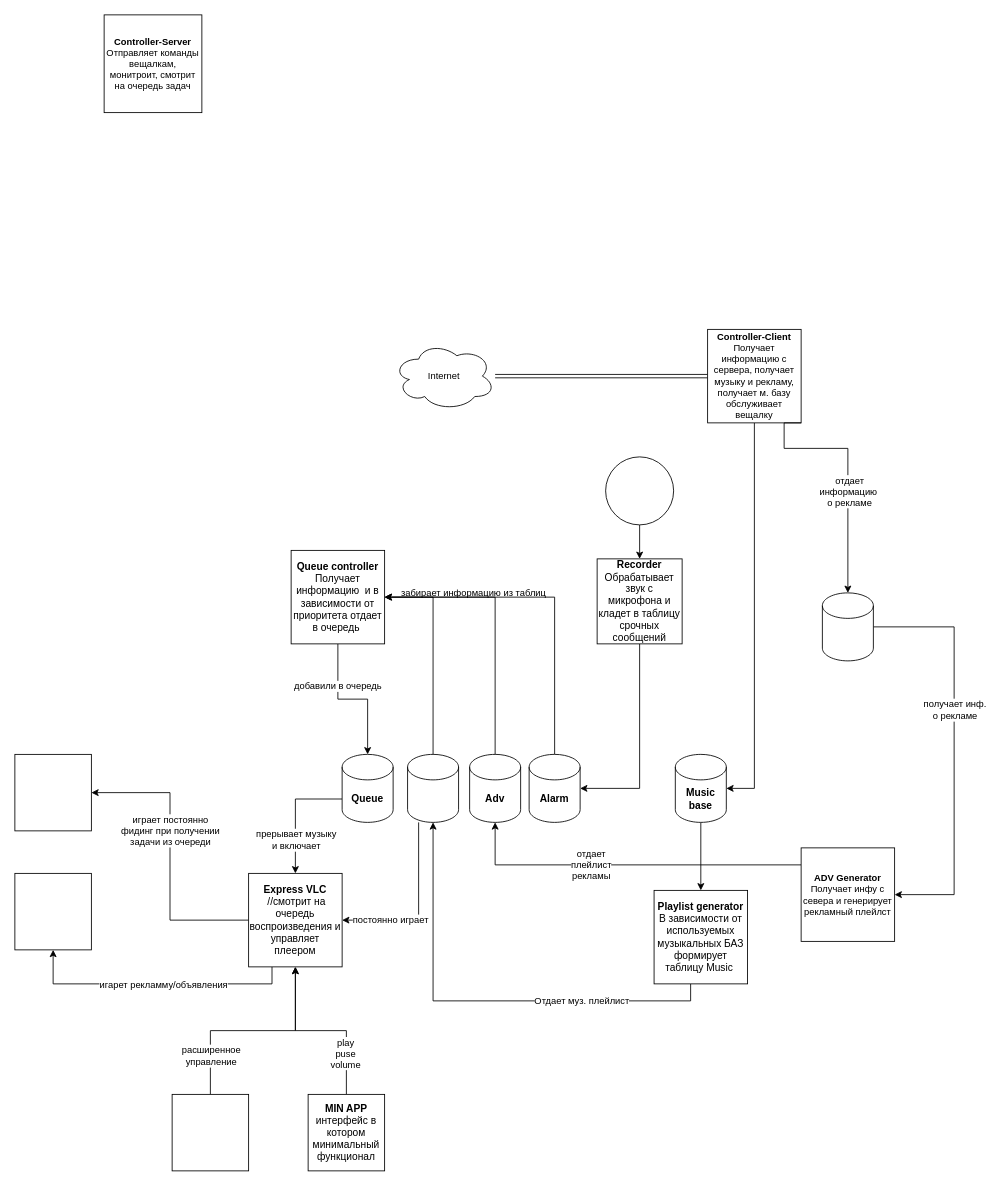
This 1000x1186 diagram has some shape labels left out. The shapes that lost their labels are listed below. From the top down, each one's centre as x and y in pixels, then its label:
(x=639, y=490): Microphone
(x=847, y=626): ADV playlist
(x=52, y=792): VLC player проигрывает музыку по команде в соответствии с плэйлистом
(x=433, y=788): Music
(x=52, y=911): TMP VLC //создется экземпляр и убивается, когда проиграл рекламу
(x=210, y=1132): Advanced user APP Расширенные настройки плеера
